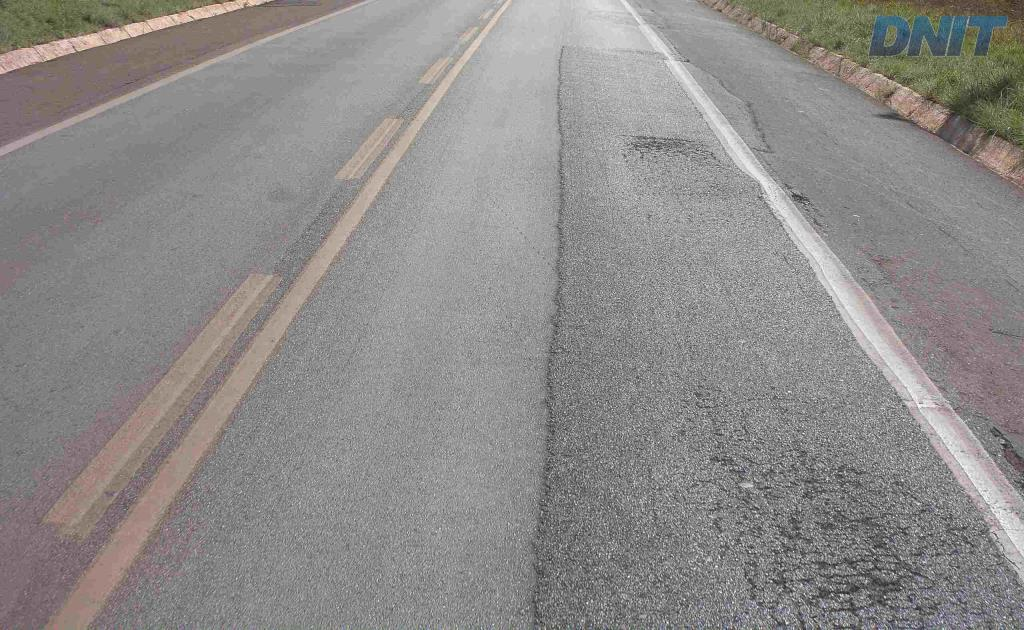crack: (797, 546, 928, 610), (832, 507, 883, 531)
